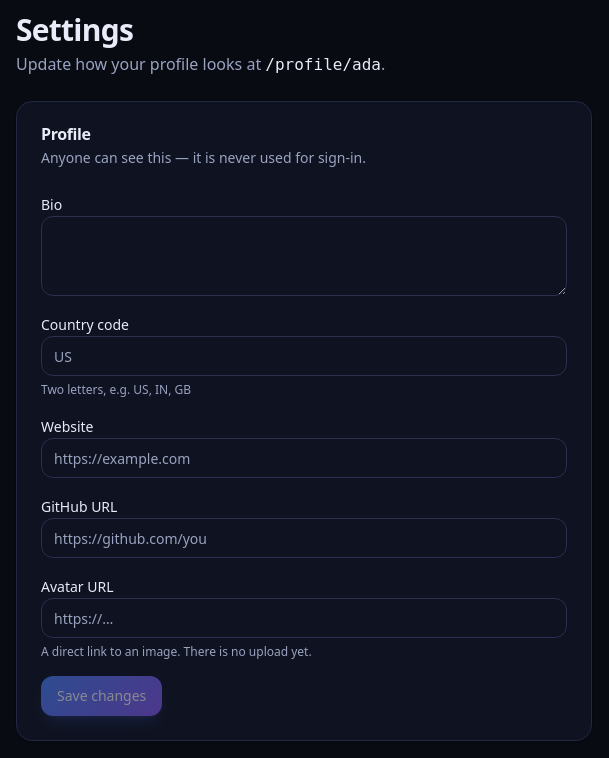
SettingsForm › disables Save until something changes
Expected: the button "Save changes" is disabled, [41,676,162,716]
Type "New bio" into the text box labelled "Bio".
click(304, 256); type("New bio")  # box [41,216,567,296]
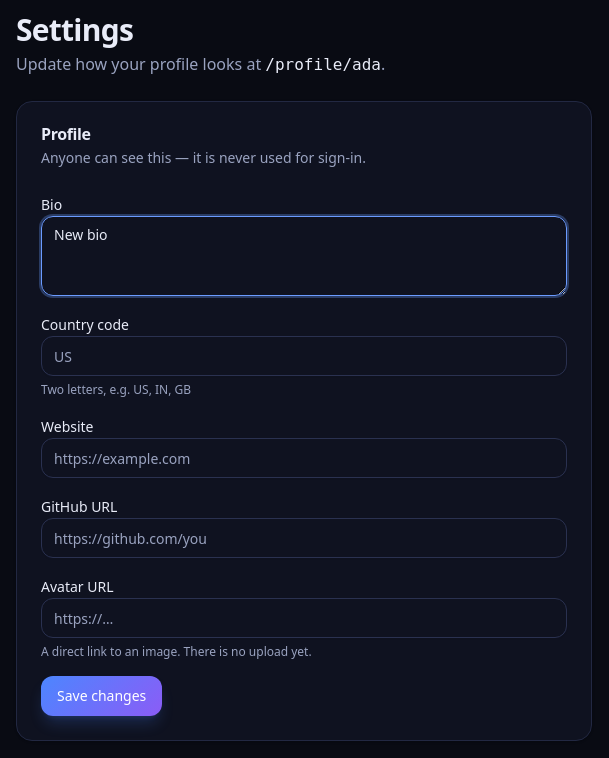
Expected: the button "Save changes" is enabled, [41,676,162,716]
